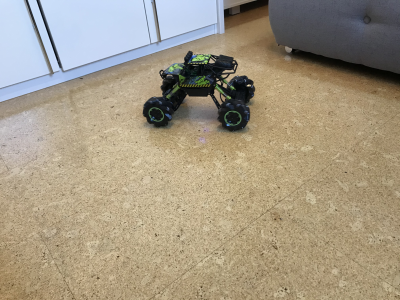remote control car: (141, 48, 260, 132)
